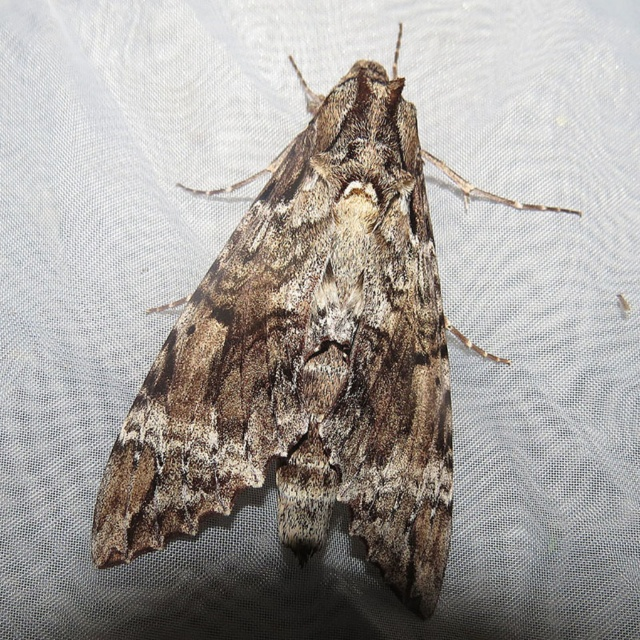Moths and butterflies: (84, 18, 586, 625)
